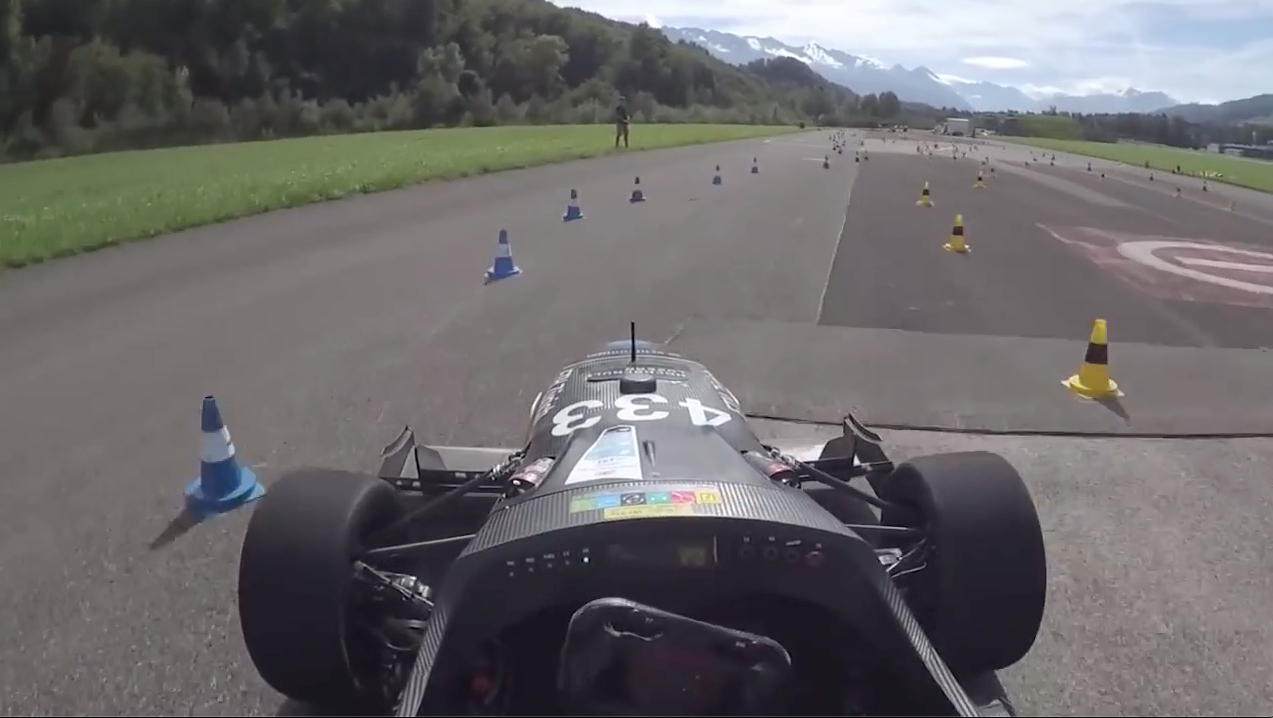lcone: (172, 384, 270, 520), (481, 225, 528, 283), (556, 185, 590, 224), (625, 172, 651, 204)
rcone: (1054, 314, 1127, 407), (942, 212, 978, 257), (915, 179, 939, 209)
